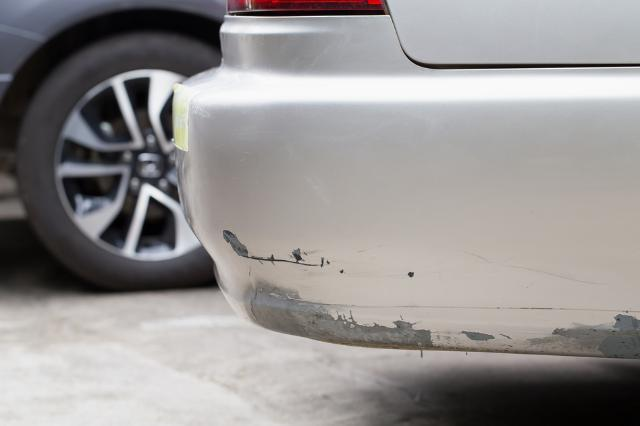Bumper: (213, 214, 640, 368)
